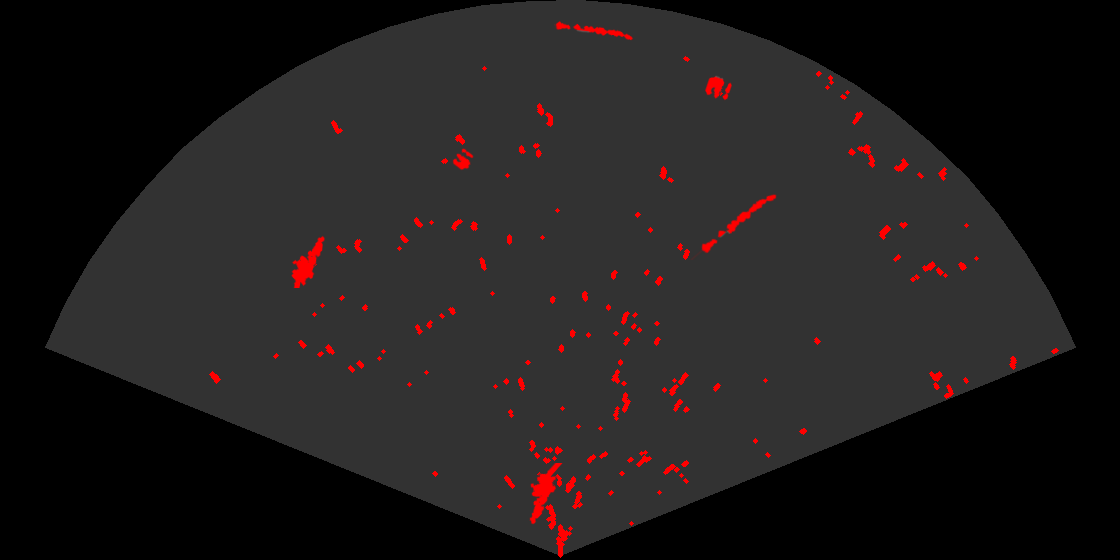ball: (703, 75, 733, 102), (451, 147, 475, 172)
chain: (689, 193, 778, 260), (554, 19, 635, 42)
frogman: (528, 463, 564, 526), (290, 234, 326, 288)
